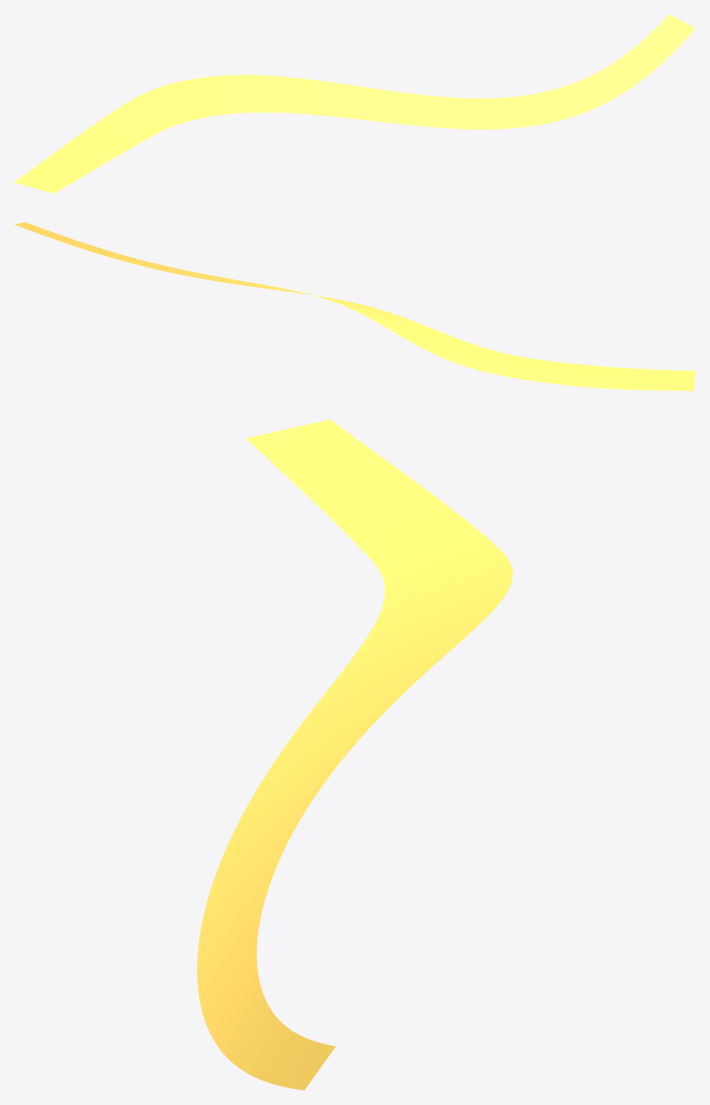
The model's file is Ribbon_Flexible_Bend.fbx.
The picture shows the model from 3 angles, top to bottom: view 1: azimuth 30°, elevation 25°; view 2: azimuth 150°, elevation 25°; view 3: azimuth 270°, elevation 25°; orthographic projection. The views are drawn at different scales.
Parts seen in each view (by area): view 1: Ribbon_Flexible_Bend; view 2: Ribbon_Flexible_Bend; view 3: Ribbon_Flexible_Bend.
Part boxes in pixels (left/top/right/bottom): Ribbon_Flexible_Bend: left=14, top=14, right=695, bottom=193; Ribbon_Flexible_Bend: left=14, top=222, right=695, bottom=390; Ribbon_Flexible_Bend: left=197, top=419, right=512, bottom=1090.
Bounding box in the file's own units: 15411 × 1278 × 3119.
